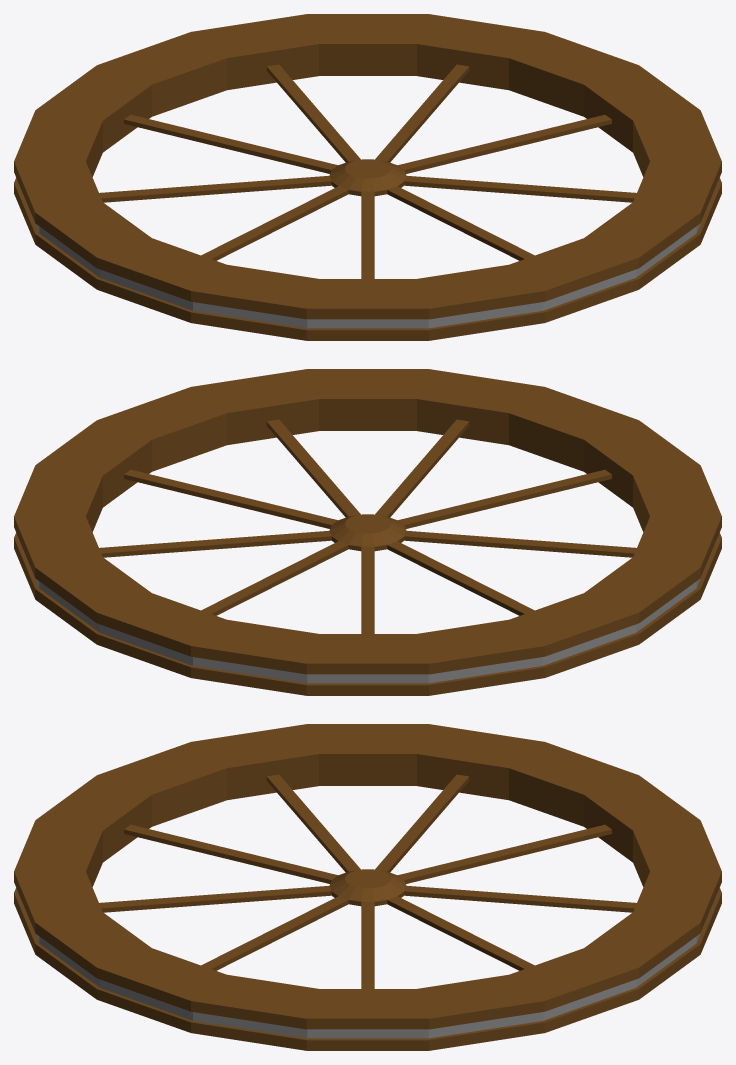
The model's file is Wheel.fbx.
3 views of the same model, one above another, from view 1: azimuth 30°, elevation 25°; view 2: azimuth 150°, elevation 25°; view 3: azimuth 270°, elevation 25° (orthographic).
Visible parts, largest first — view 1: Circle.001; view 2: Circle.001; view 3: Circle.001.
Part boxes in pixels (x1,y1,x2,y2): Circle.001: [14, 14, 721, 340]; Circle.001: [14, 369, 721, 695]; Circle.001: [14, 724, 721, 1050].
Bounding box in the file's own units: 98.48 × 5 × 100.
